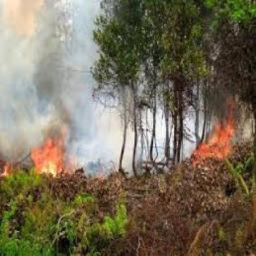Low smoke: (0, 0, 223, 189)
Small fire: (16, 110, 103, 186), (183, 118, 253, 166)
